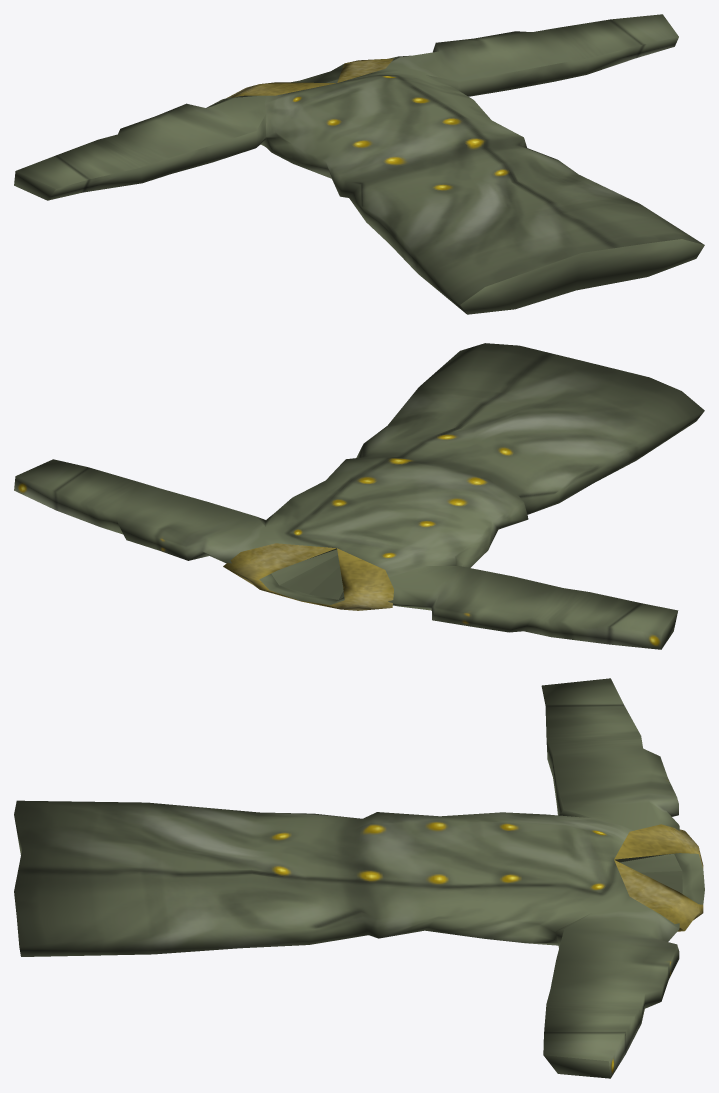
The model's file is Kurtk_8_Ground.fbx.
3 renders of one model, top to bottom at view 1: azimuth 30°, elevation 25°; view 2: azimuth 150°, elevation 25°; view 3: azimuth 270°, elevation 25°, orthographic. The views are drawn at different scales.
Parts seen in each view (by area): view 1: Body.035; view 2: Body.035; view 3: Body.035.
Part boxes in pixels (x1,y1,x2,y2): Body.035: (14,14,704,314); Body.035: (14,343,704,649); Body.035: (14,678,704,1078).
Size of the model in its own units: 0.7551 by 0.0499 by 0.5754.
